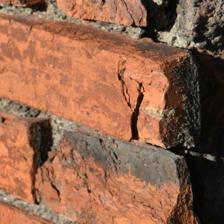Crack: (4, 16, 89, 98), (42, 0, 116, 92)
